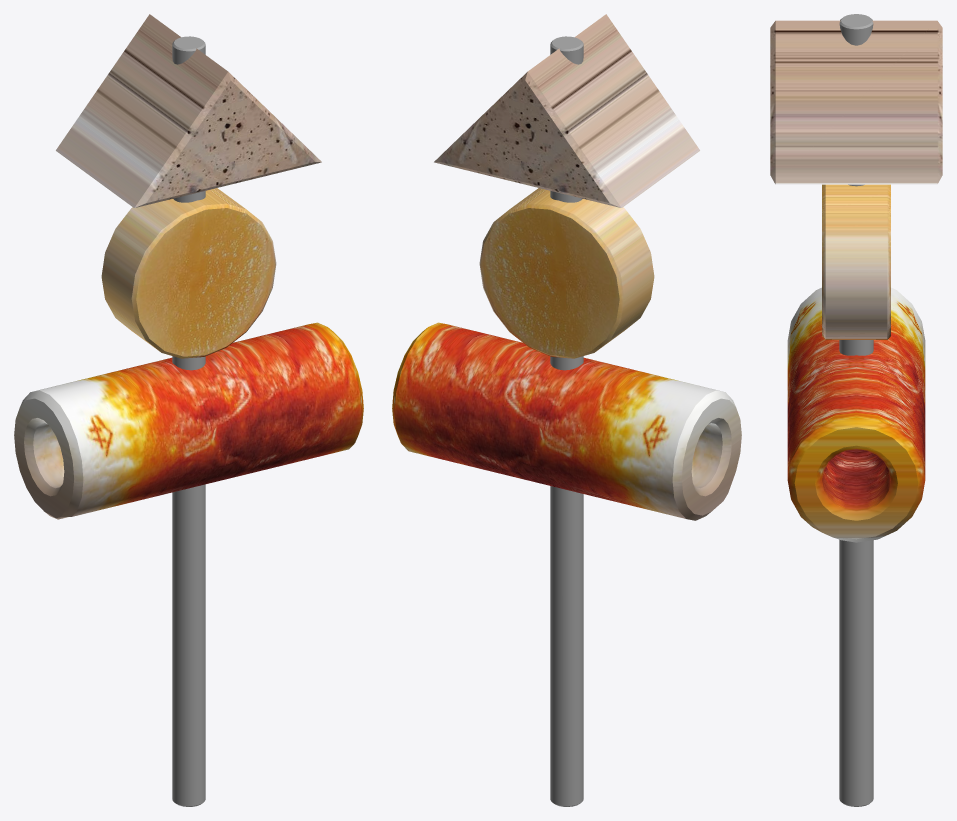
File: Oden_01.fbx
The picture shows the model from 3 angles, left to right: view 1: azimuth 30°, elevation 25°; view 2: azimuth 150°, elevation 25°; view 3: azimuth 270°, elevation 25°; orthographic projection. The views are drawn at different scales.
Parts seen in each view (by area): view 1: pCylinder6; view 2: pCylinder6; view 3: pCylinder6.
Boxes of the visible parts, x1,y1,x2,y2 form: pCylinder6: (14,14,363,806); pCylinder6: (392,14,741,806); pCylinder6: (770,14,942,806).
Bounding box in the file's own units: 4 × 10 × 2.
Materials: 2 (1 with a texture image).
